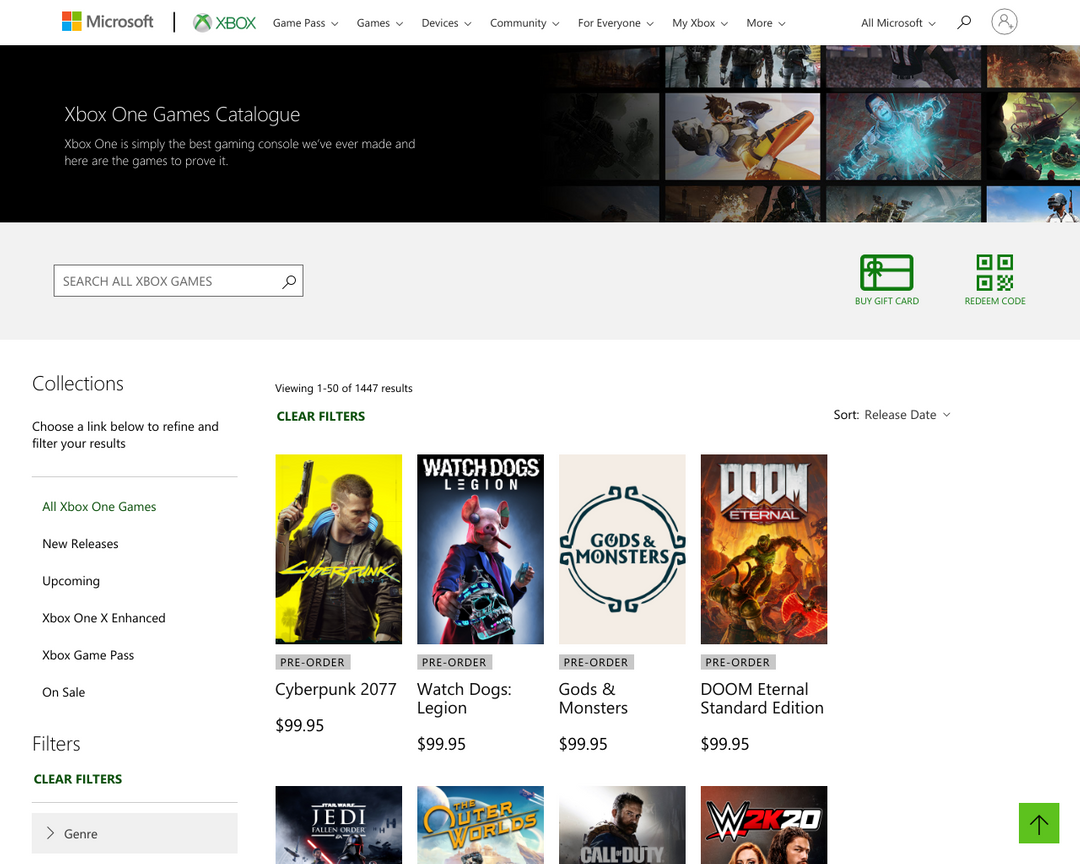Microsoft: (429, 136, 459, 173)
